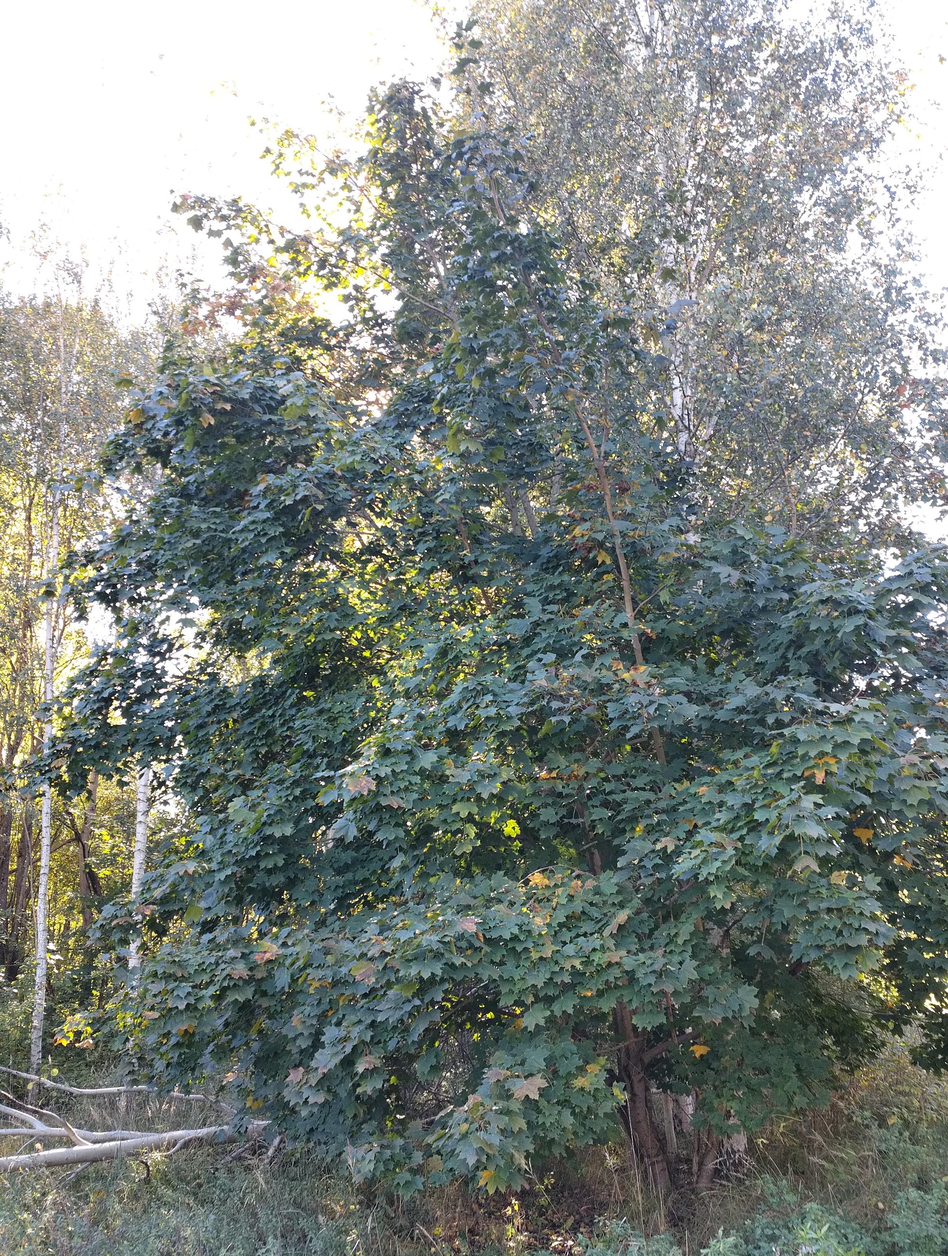Maple: (37, 351, 940, 1221)
